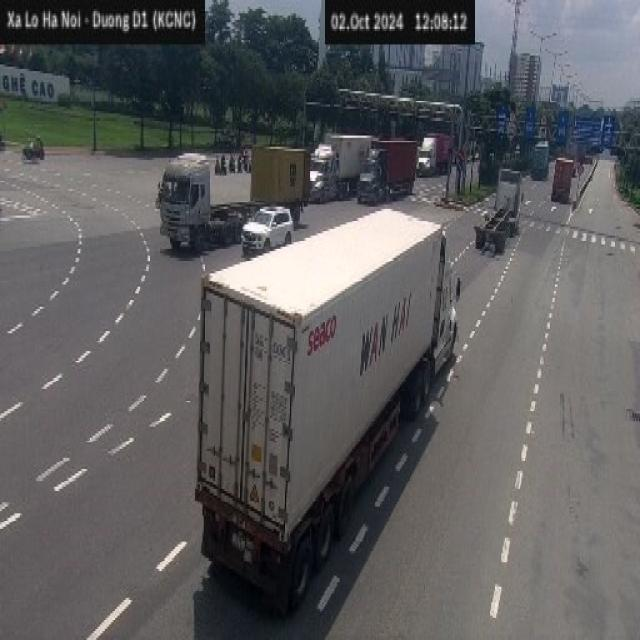car: (240, 196, 296, 256)
container-truck: (194, 207, 461, 616), (164, 144, 318, 243), (468, 164, 531, 260), (347, 133, 421, 210), (310, 128, 371, 201), (418, 129, 458, 180), (551, 156, 577, 213)
